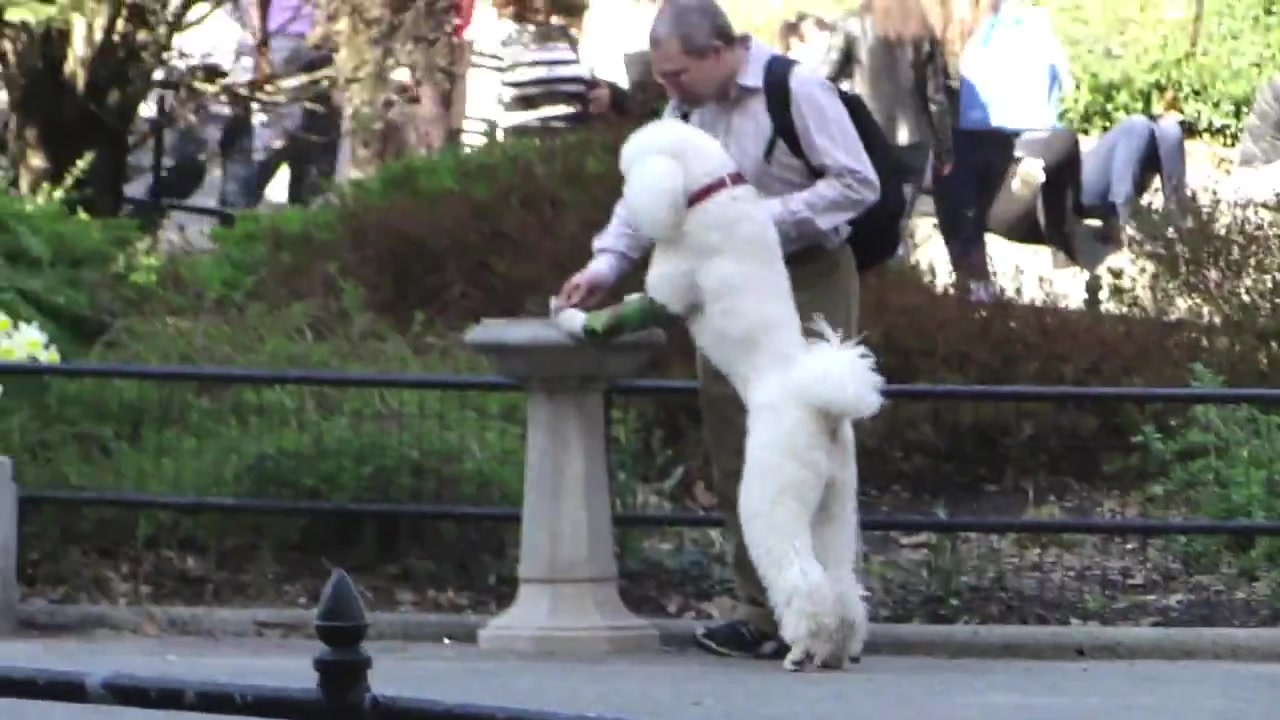dog: (618, 116, 889, 673)
